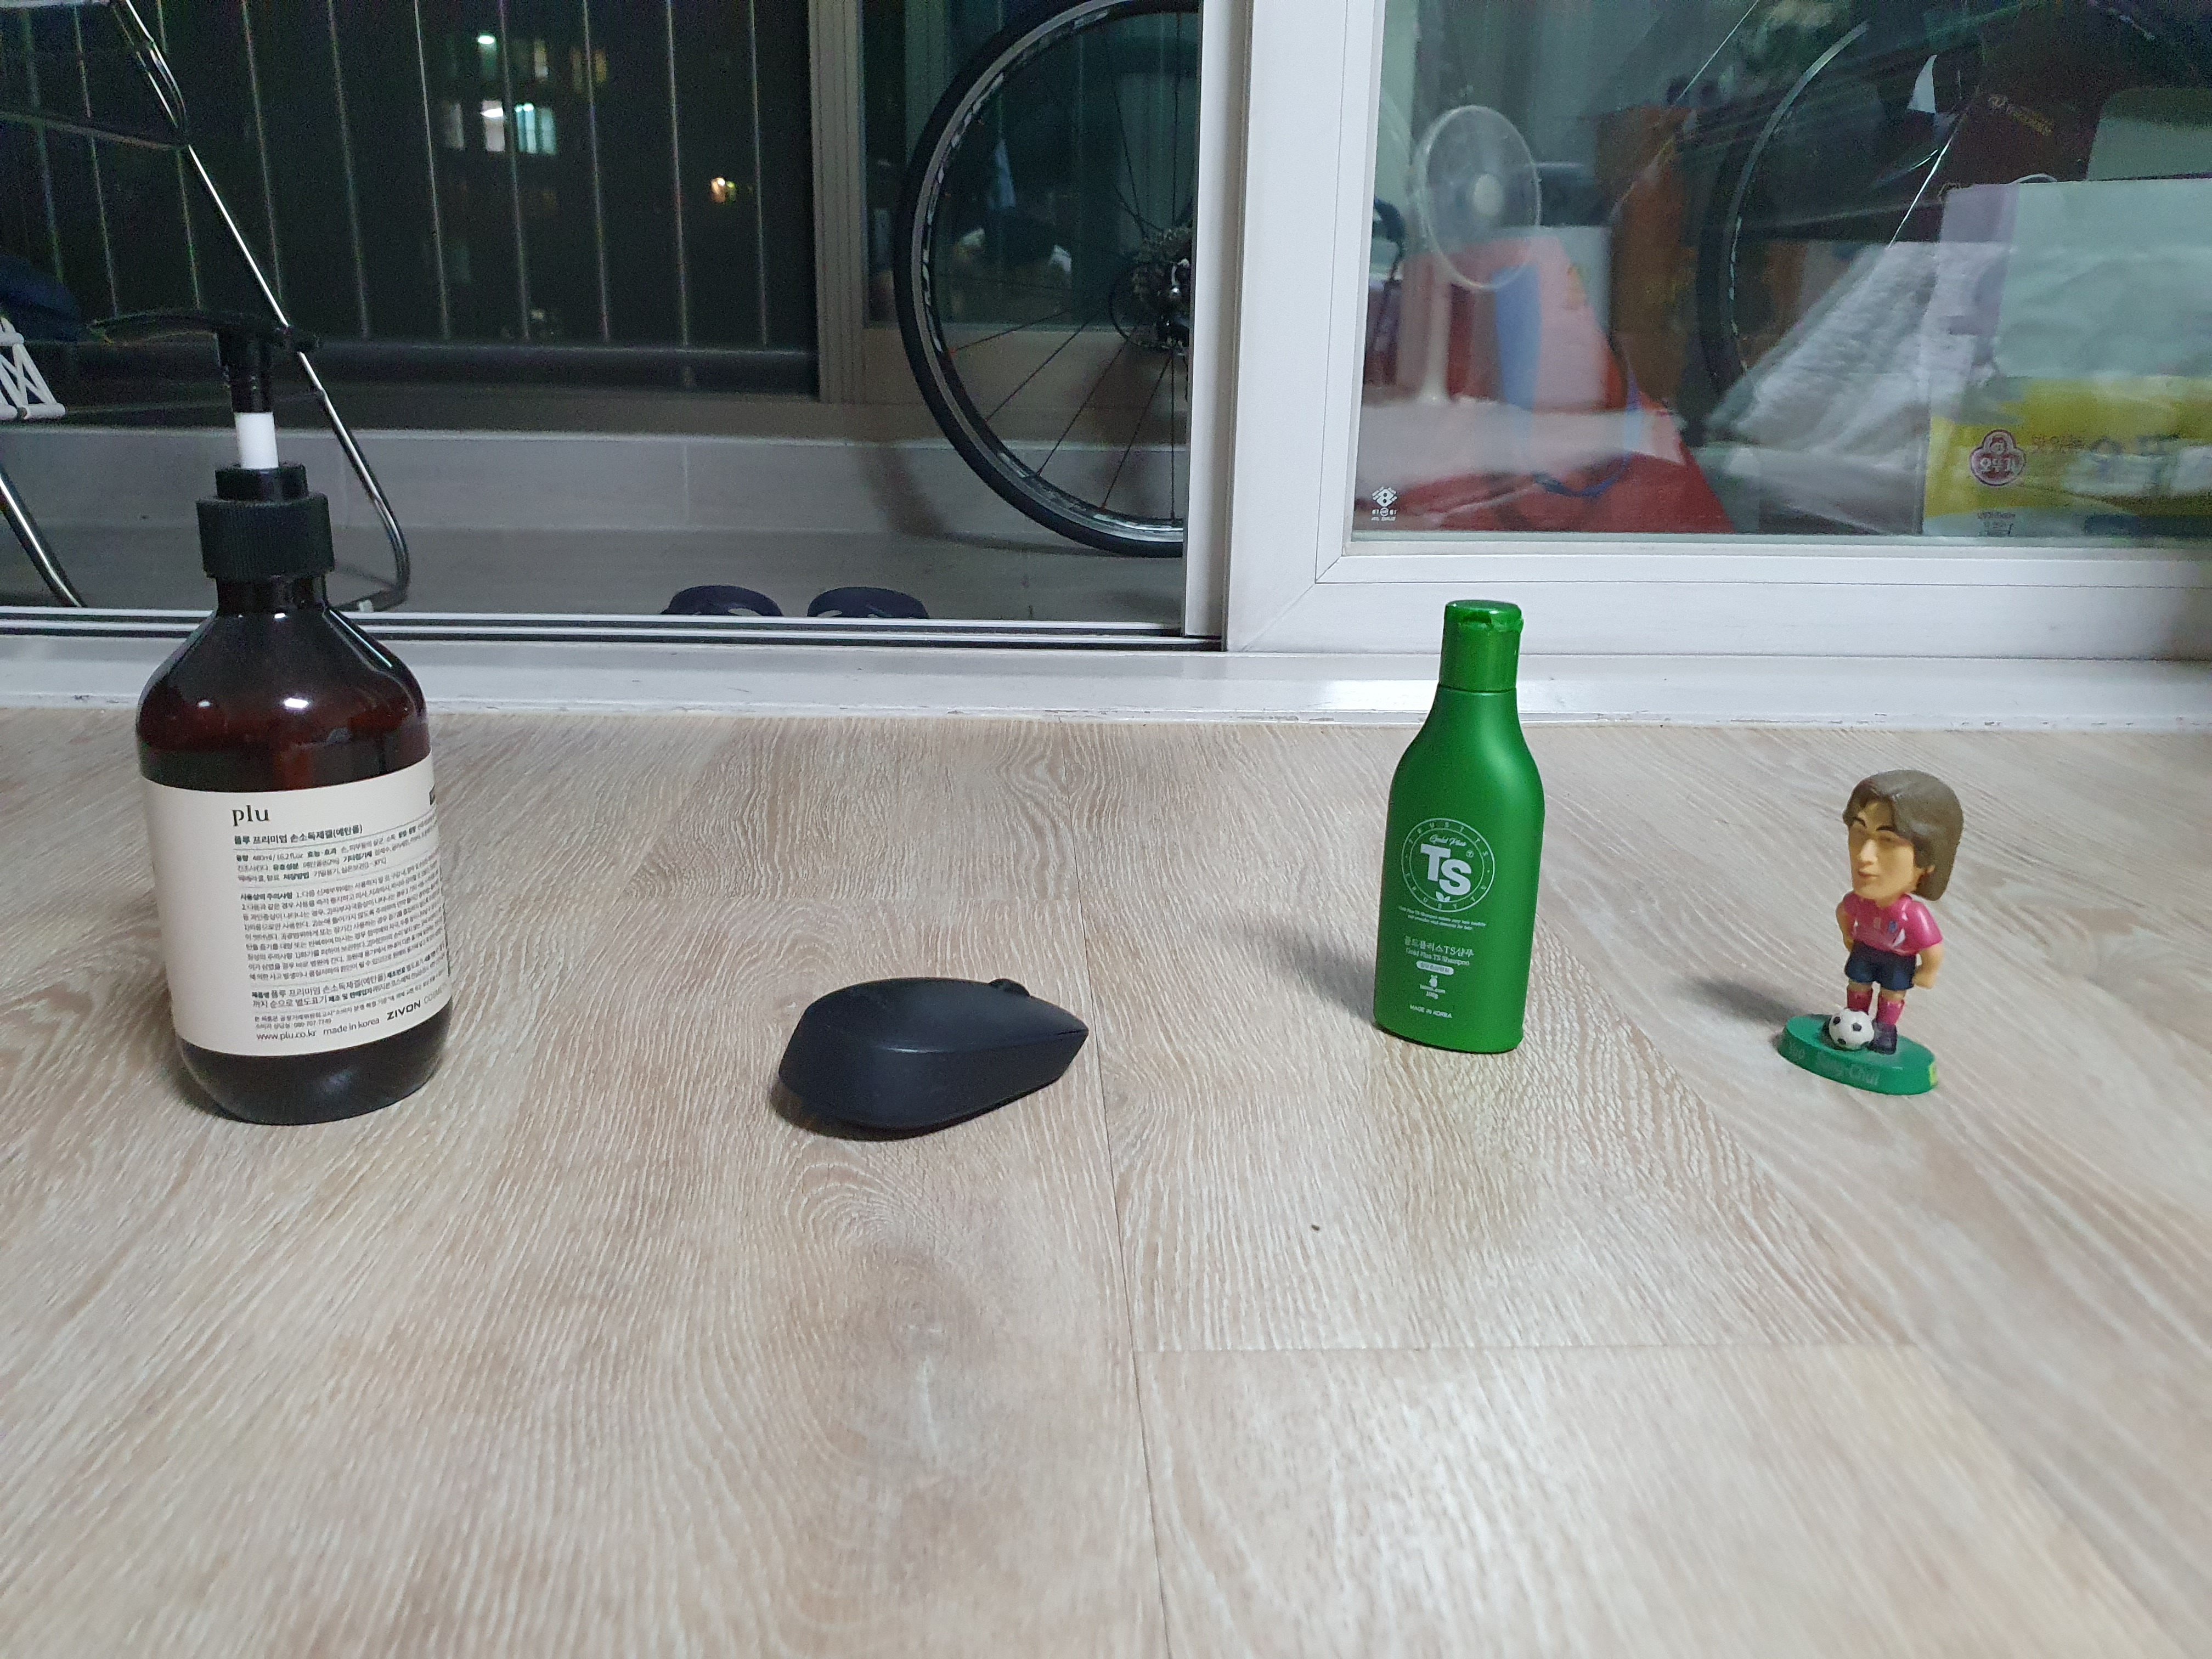bottle: (56, 284, 549, 1169)
mouse: (718, 922, 1209, 1206)
shampoo: (1376, 592, 1568, 1075)
yoo: (1792, 742, 1980, 1140)
